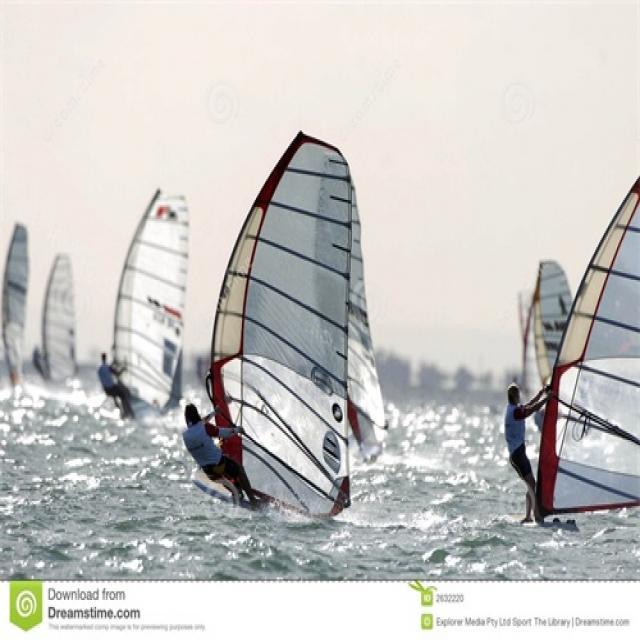Ship: (205, 138, 374, 518), (509, 175, 639, 547), (98, 187, 198, 424), (44, 252, 89, 395), (1, 217, 36, 396)
